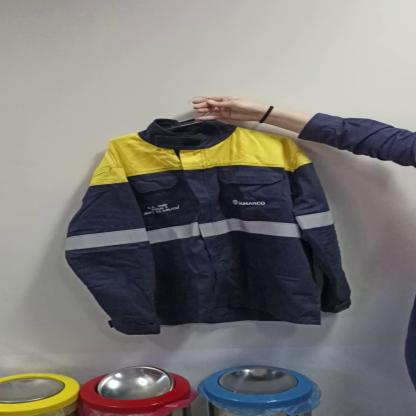C_eletrica: (66, 119, 358, 332)
